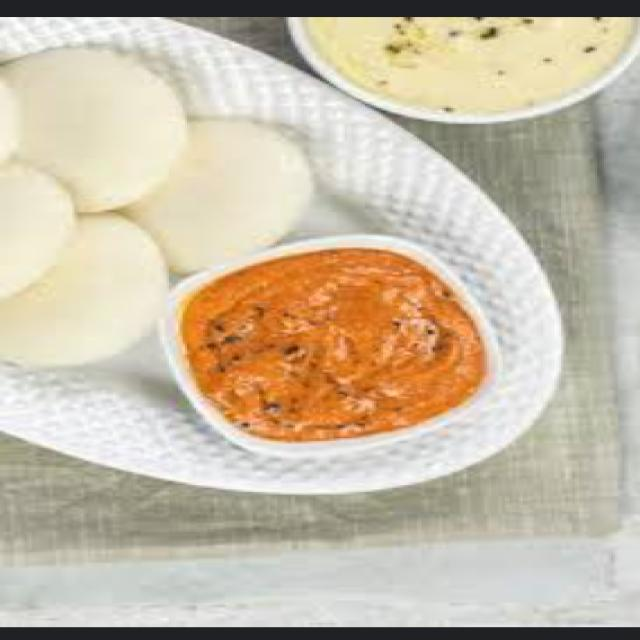tomato chutney: (180, 276, 495, 442)
